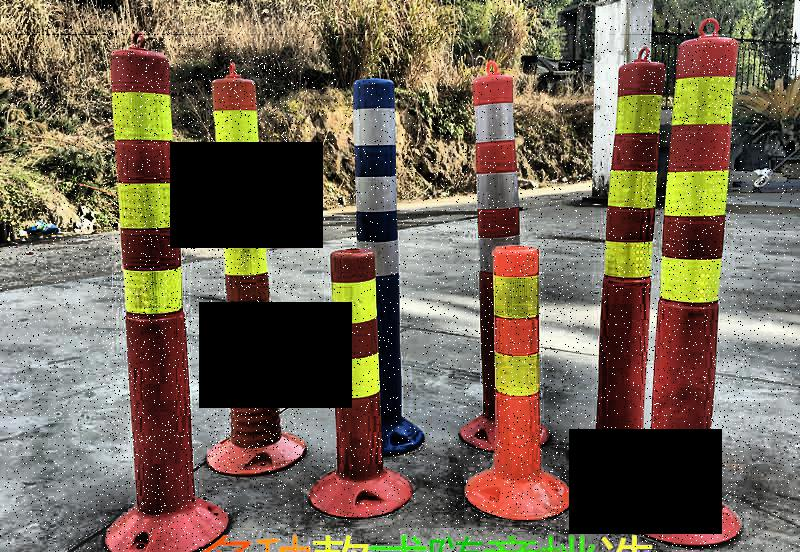bench: (641, 12, 745, 549), (103, 28, 201, 551), (208, 51, 303, 475), (464, 245, 576, 522), (309, 247, 412, 518)
